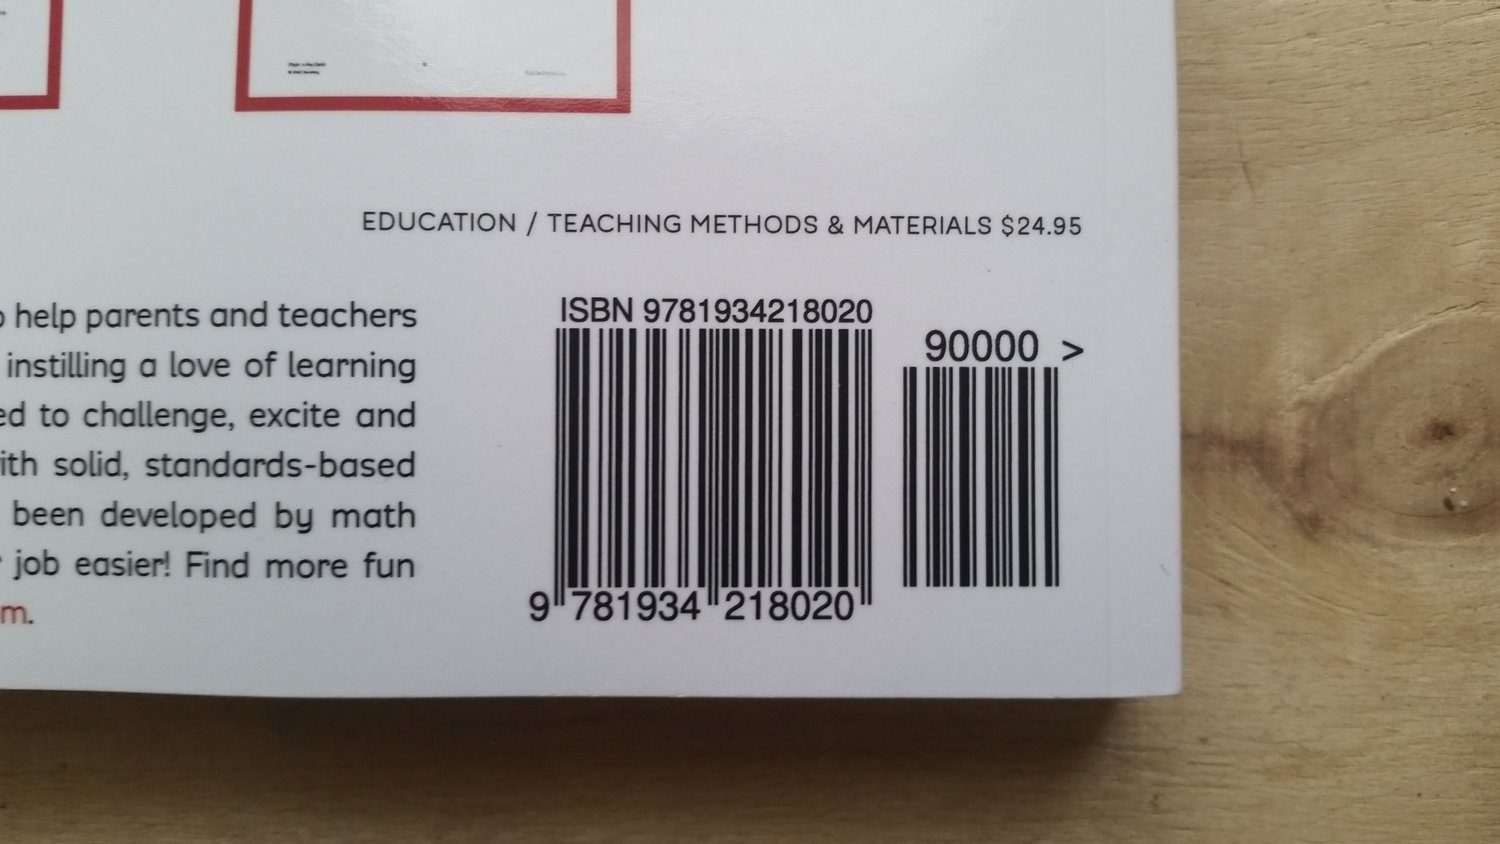barcode: (529, 275, 1091, 633)
